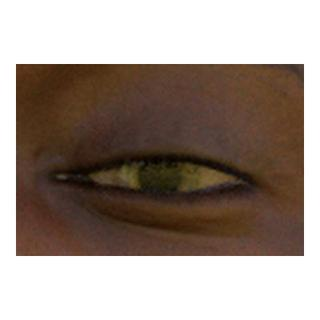pupil: (139, 155, 181, 197)
